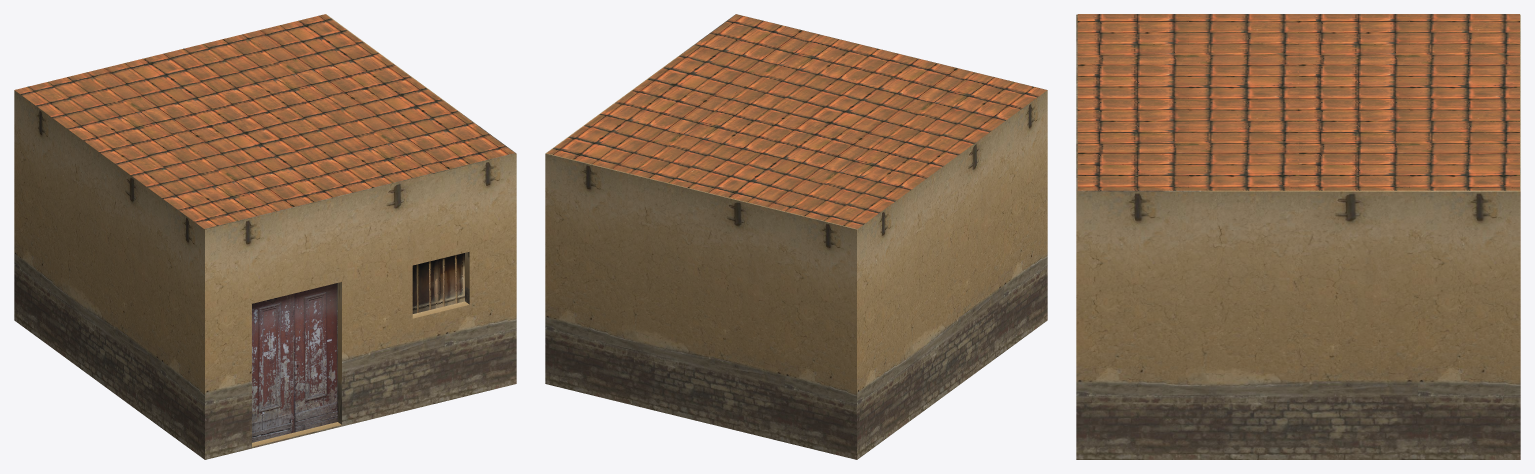
Rendered from 3rd_world_building_2.FBX.
3 renders of one model, left to right at view 1: azimuth 30°, elevation 25°; view 2: azimuth 150°, elevation 25°; view 3: azimuth 270°, elevation 25°, orthographic. The views are drawn at different scales.
Parts seen in each view (by area): view 1: Box001, Plane001, Plane002, Plane003; view 2: Box001, Plane001; view 3: Box001, Plane001.
Part boxes in pixels (bbox=[...]): Box001: bbox=[14, 14, 516, 459]; Plane001: bbox=[14, 14, 514, 228]; Plane002: bbox=[252, 283, 337, 442]; Plane003: bbox=[412, 253, 464, 313]; Box001: bbox=[545, 14, 1047, 459]; Plane001: bbox=[547, 14, 1046, 228]; Box001: bbox=[1076, 14, 1520, 459]; Plane001: bbox=[1077, 14, 1519, 190].
Size of the model in its own units: 45.76 by 32.33 by 48.43.
